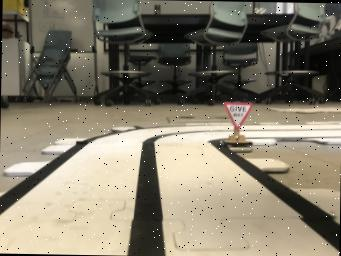give_way: (220, 102, 253, 152), (220, 102, 253, 152), (220, 102, 253, 152), (220, 102, 253, 152), (220, 102, 253, 152), (220, 102, 253, 152)
street: (0, 127, 339, 256), (0, 127, 339, 256), (0, 127, 339, 256), (0, 127, 339, 256), (0, 127, 339, 256), (0, 127, 339, 256)
